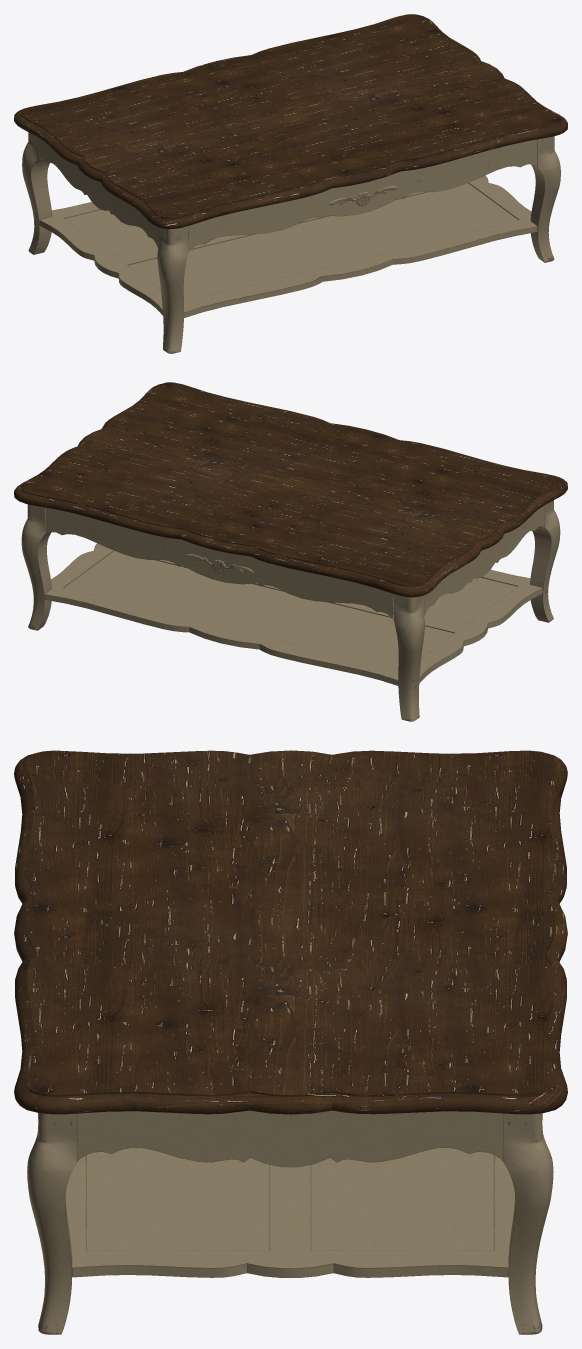
Rendered from example112.gltf.
3 renders of one model, top to bottom at view 1: azimuth 30°, elevation 25°; view 2: azimuth 150°, elevation 25°; view 3: azimuth 270°, elevation 25°, orthographic. The views are drawn at different scales.
Size of the model in its own units: 140 by 45.12 by 92.03.
Materials: 2 (2 with a texture image).
